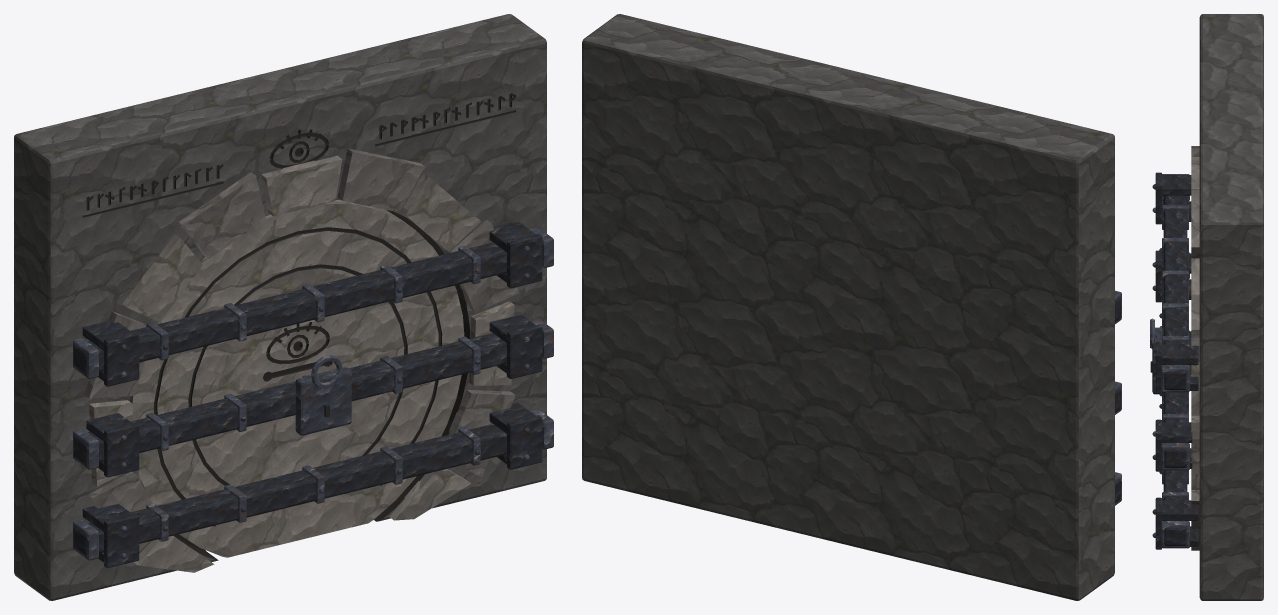
The model's file is vo_sealed_passage.glb.
3 renders of one model, left to right at view 1: azimuth 30°, elevation 25°; view 2: azimuth 150°, elevation 25°; view 3: azimuth 270°, elevation 25°, orthographic. The views are drawn at different scales.
Parts seen in each view (by area): view 1: model; view 2: model; view 3: model.
Boxes of the visible parts, <box> form: model: <box>14,14,553,600</box>; model: <box>582,14,1121,600</box>; model: <box>1150,14,1263,600</box>.
Size of the model in its own units: 2.3 by 1.95 by 0.5293.
8 materials, 6 textured.
